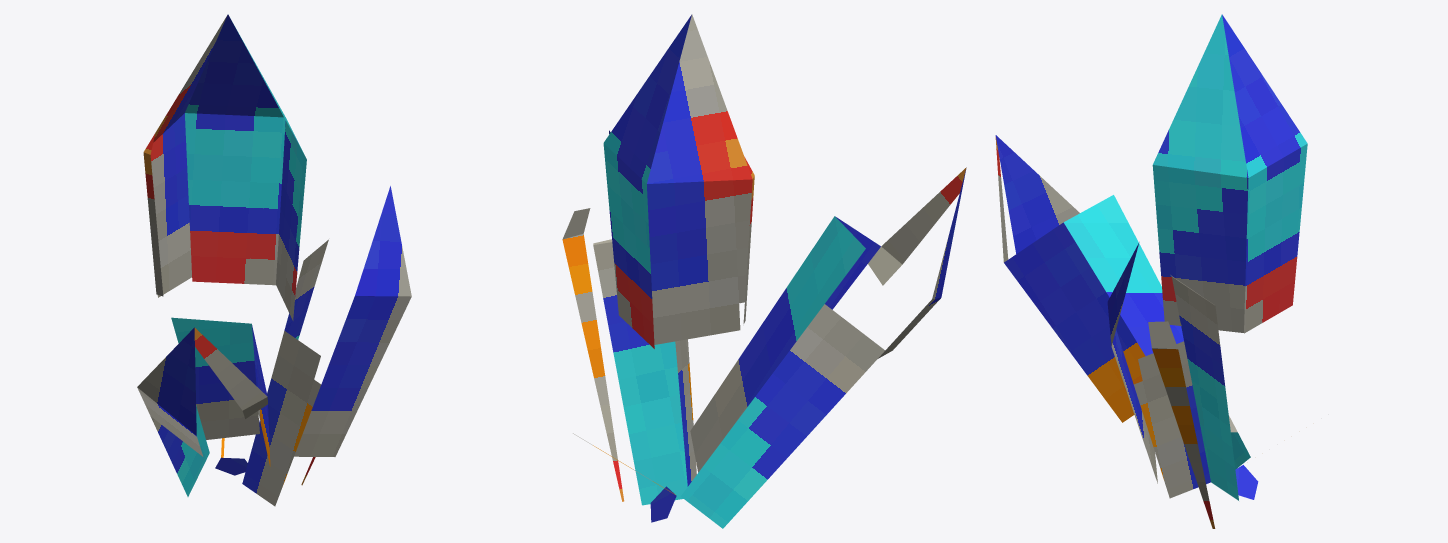
File: raritaniumcrystal.obj
3 views of the same model, side by side, from view 1: azimuth 30°, elevation 25°; view 2: azimuth 150°, elevation 25°; view 3: azimuth 270°, elevation 25° (orthographic). The views are drawn at different scales.
Visible parts, largest first — view 1: Circle.003; view 2: Circle.003; view 3: Circle.003.
Part boxes in pixels (box(x1,y1,x2,y2)): Circle.003: box(137, 14, 411, 506); Circle.003: box(562, 14, 966, 528); Circle.003: box(995, 14, 1307, 528).
Size of the model in its own units: 4.08 by 6.36 by 5.11.
